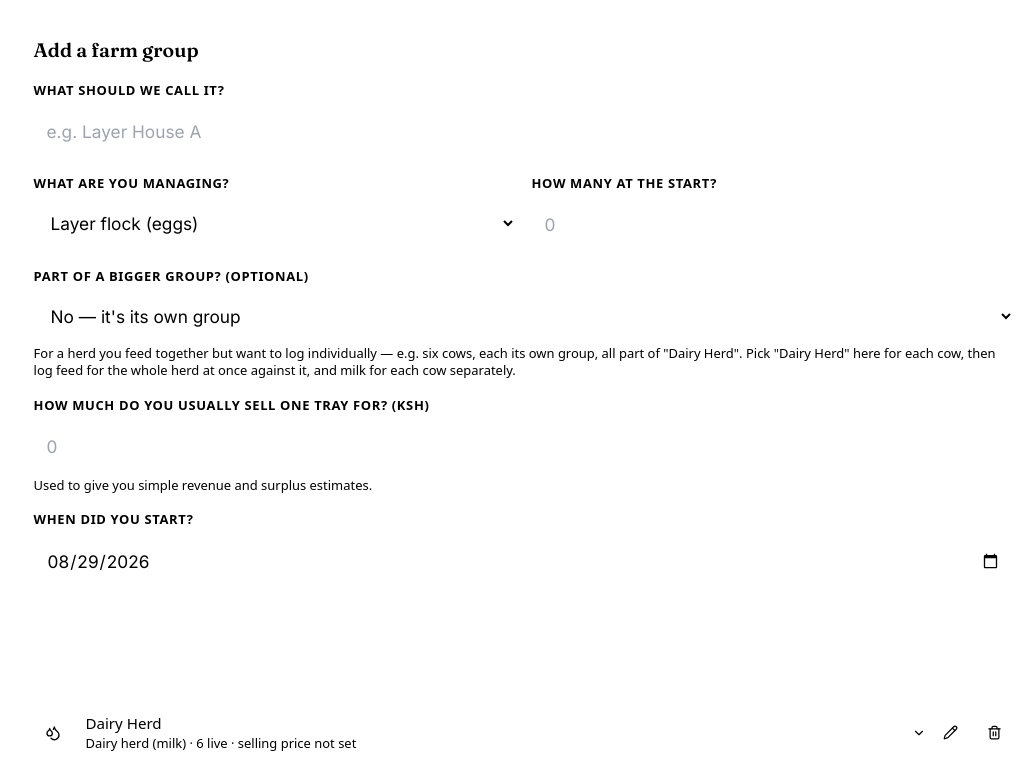
Test: UnitsView — grouping individual animals under a herd › a group cannot be listed as its own parent candidate
(page scrolled)
Click the button named "Edit Dairy Herd".
click(950, 733)  # box x1=930 y1=713 x2=970 y2=753
(page scrolled)
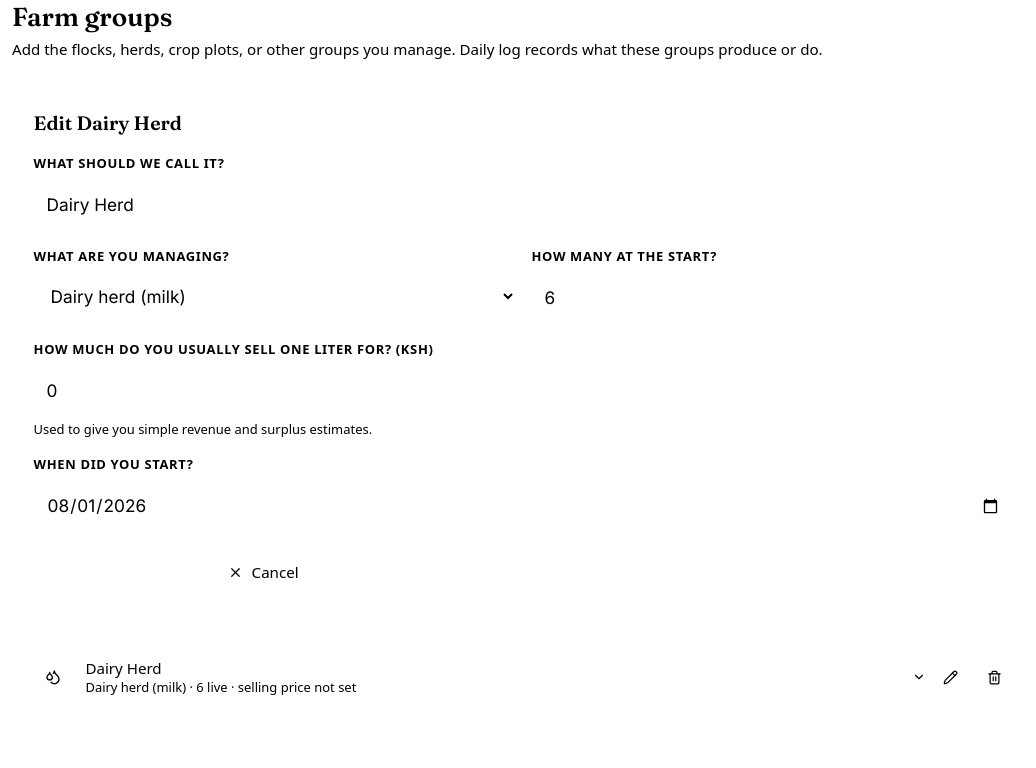
Check: the text "Part of a bigger group? (optional)" is gone
